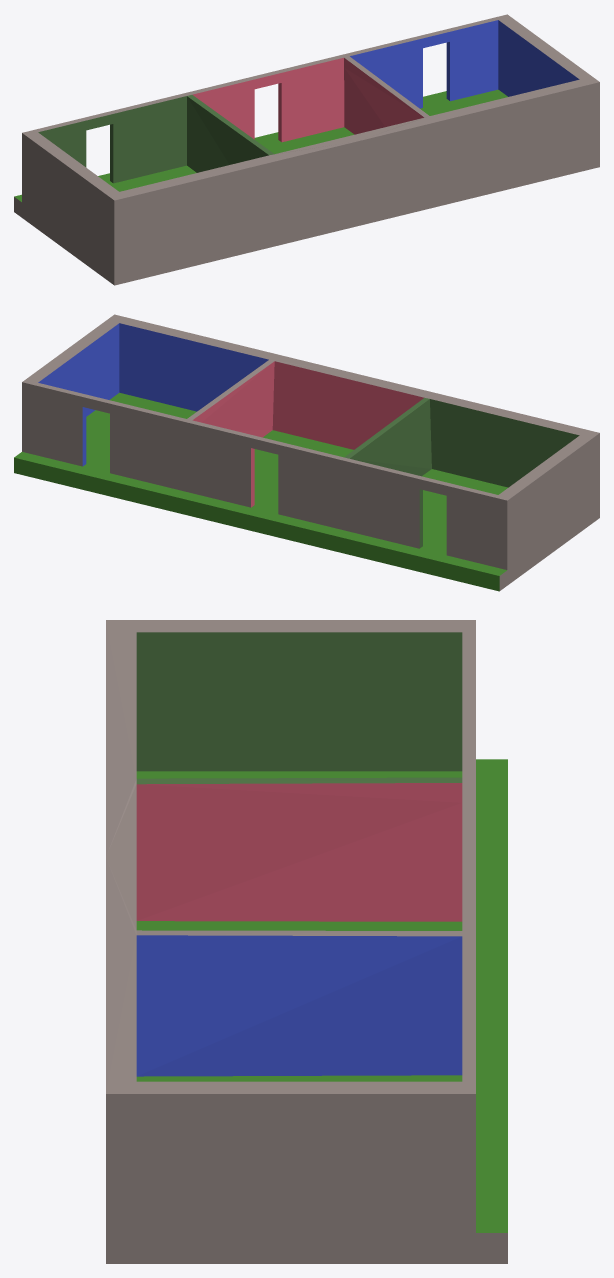
Rendered from Bed_Test.dae.
3 views of the same model, one above another, from view 1: azimuth 30°, elevation 25°; view 2: azimuth 150°, elevation 25°; view 3: azimuth 270°, elevation 25° (orthographic). The views are drawn at different scales.
Visible parts, largest first — view 1: BedRoomHouse; view 2: BedRoomHouse; view 3: BedRoomHouse.
Boxes of the visible parts, x1,y1,x2,y2 form: BedRoomHouse: (14,14,599,285); BedRoomHouse: (14,314,599,591); BedRoomHouse: (106,620,507,1263).
Size of the model in its own units: 45.28 by 16.23 by 7.58.
